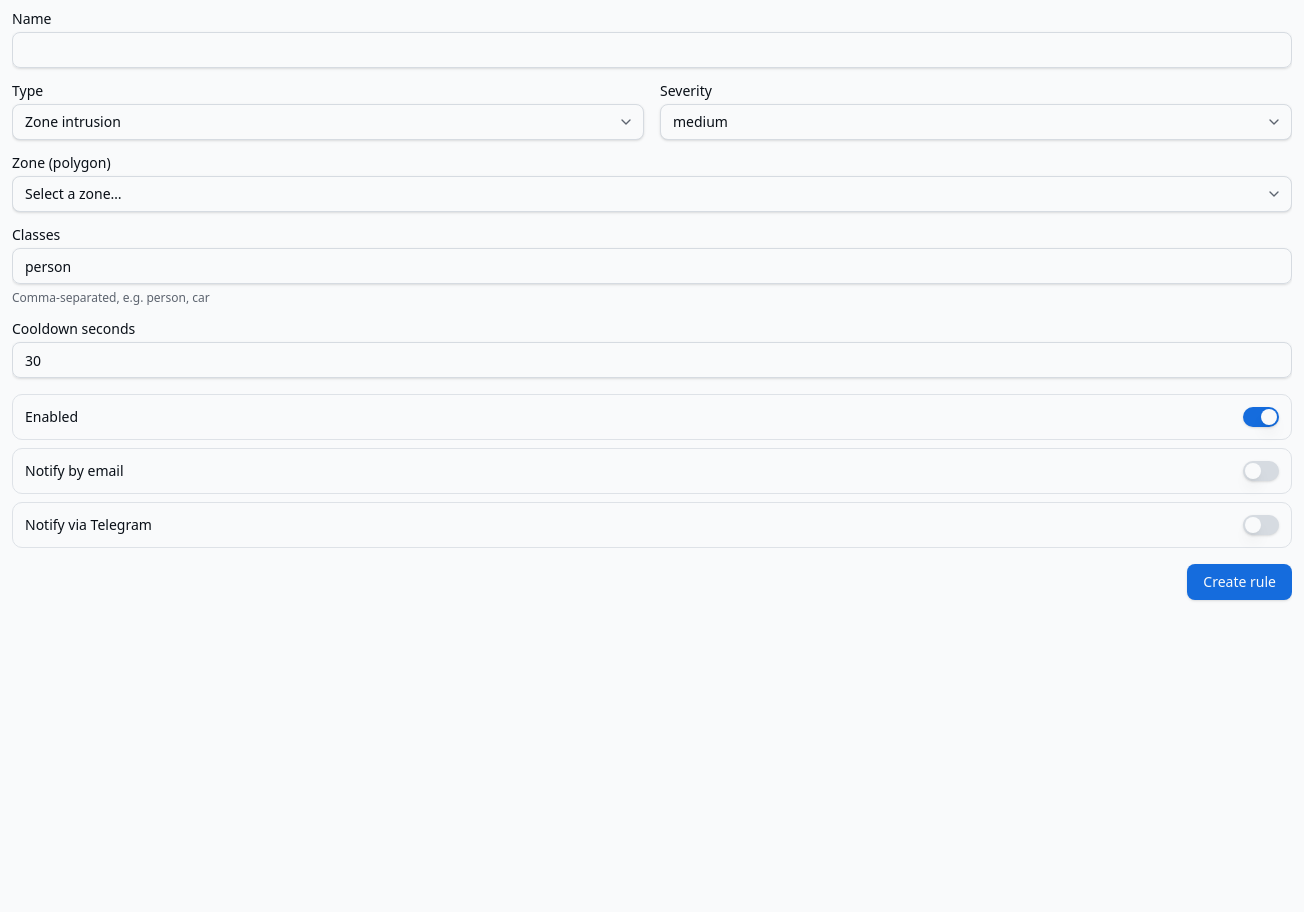
Scenario: RuleForm › switching to dwell_time shows seconds (default 120) and vehicle classes
Select "Dwell time" in the dropdown labelled "Type" at coordinates (328, 122), box [12,104,644,140]
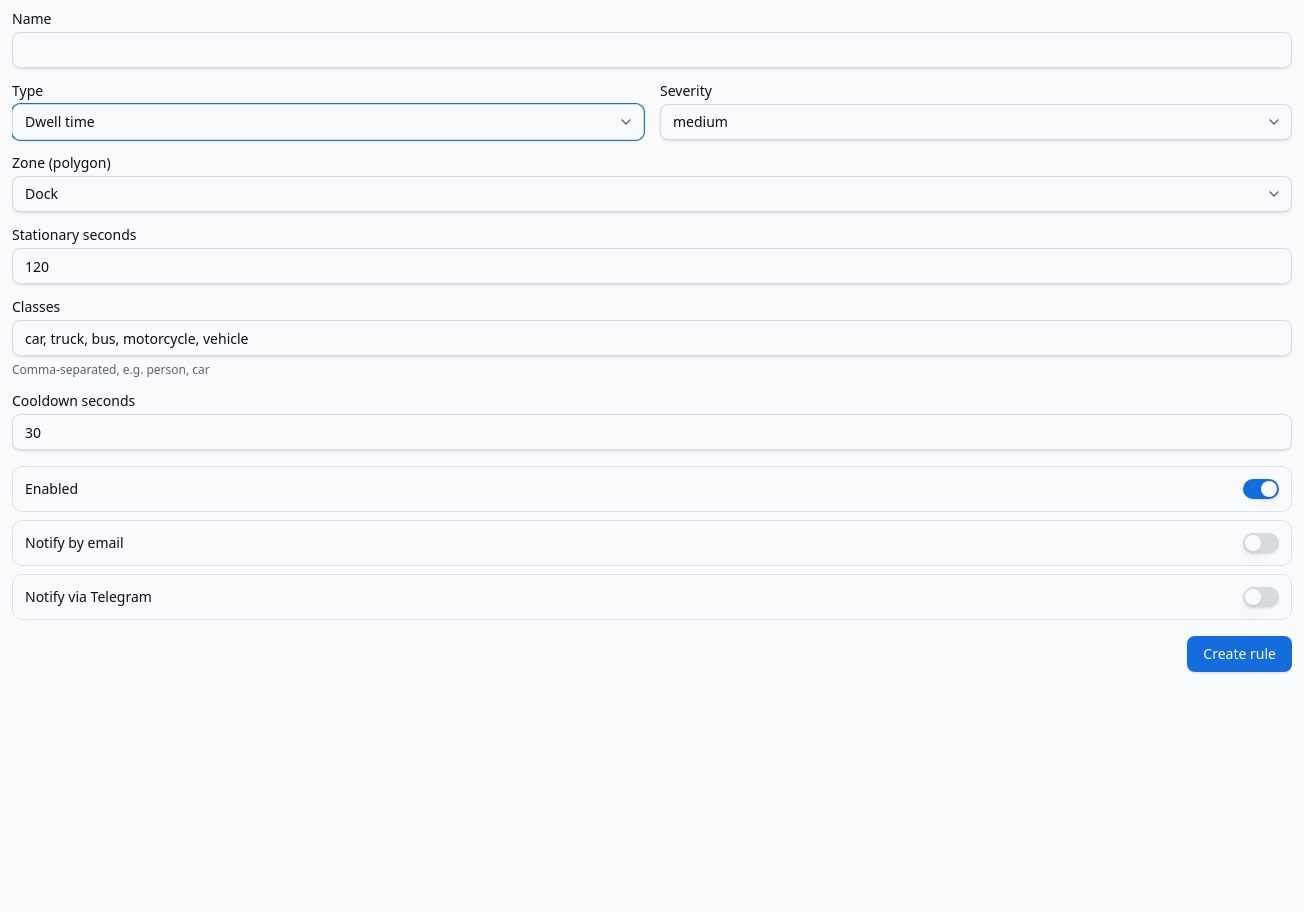
Expected: the number field labelled "Stationary seconds" holds "120", [12,248,1292,284]
Expected: the field labelled "Classes" holds "car, truck, bus, motorcycle, vehicle", [12,320,1292,356]
